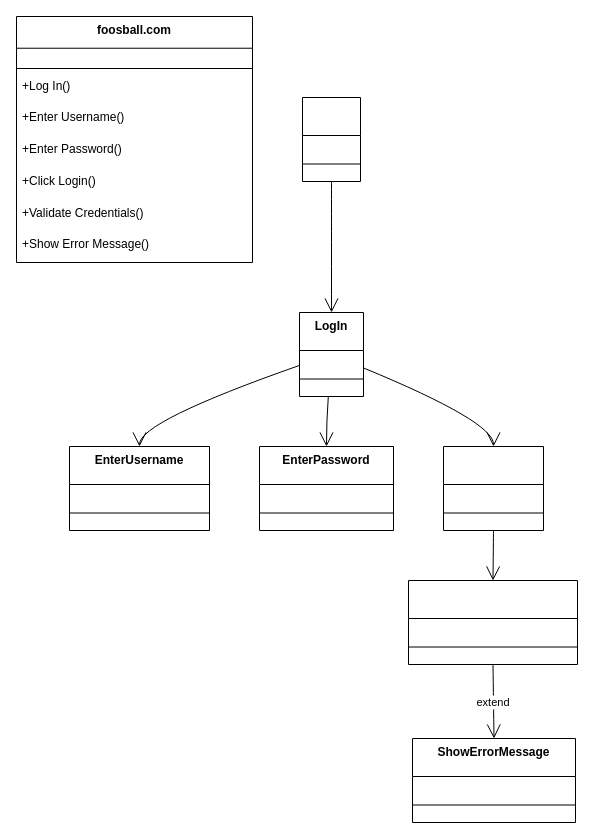
The diagram is 594 pixels wide and 839 high, and some of its shapes have lost their labels. Each missing label, with the centre of its shape:
"ClickLogin" goes at pixel 493 488.
"User" goes at pixel 331 139.
"ValidateCredentials" goes at pixel 493 622.
